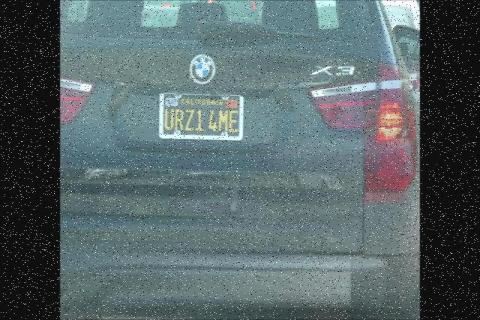LicensePlate: (160, 91, 243, 141)
